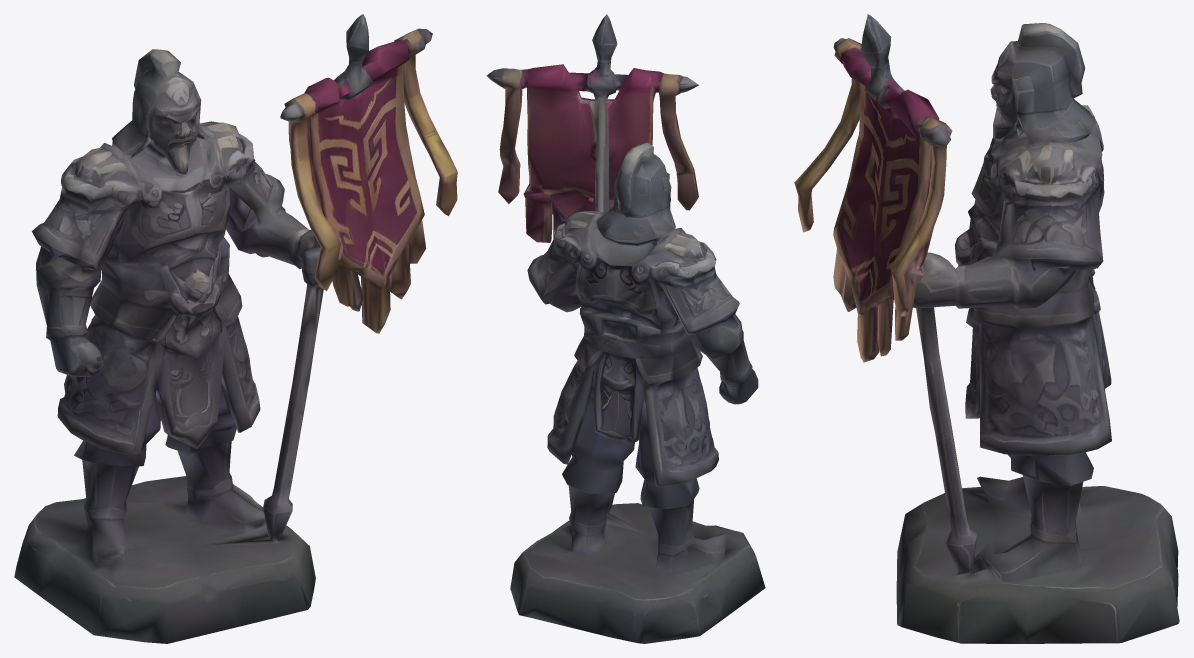
File: ss_jiangxing.glb
3 renders of one model, left to right at view 1: azimuth 30°, elevation 25°; view 2: azimuth 150°, elevation 25°; view 3: azimuth 270°, elevation 25°, orthographic. The views are drawn at different scales.
Visible parts, largest first — view 1: tripo_node_b09cb969-4eb7-4667-8519-da5f0da85bfc; view 2: tripo_node_b09cb969-4eb7-4667-8519-da5f0da85bfc; view 3: tripo_node_b09cb969-4eb7-4667-8519-da5f0da85bfc.
Boxes of the visible parts, x1,y1,x2,y2 form: tripo_node_b09cb969-4eb7-4667-8519-da5f0da85bfc: (14, 14, 457, 643); tripo_node_b09cb969-4eb7-4667-8519-da5f0da85bfc: (486, 14, 765, 643); tripo_node_b09cb969-4eb7-4667-8519-da5f0da85bfc: (794, 14, 1179, 643).
Bounding box in the file's own units: 0.6181 × 0.9999 × 0.5517.
1 material, 1 textured.
